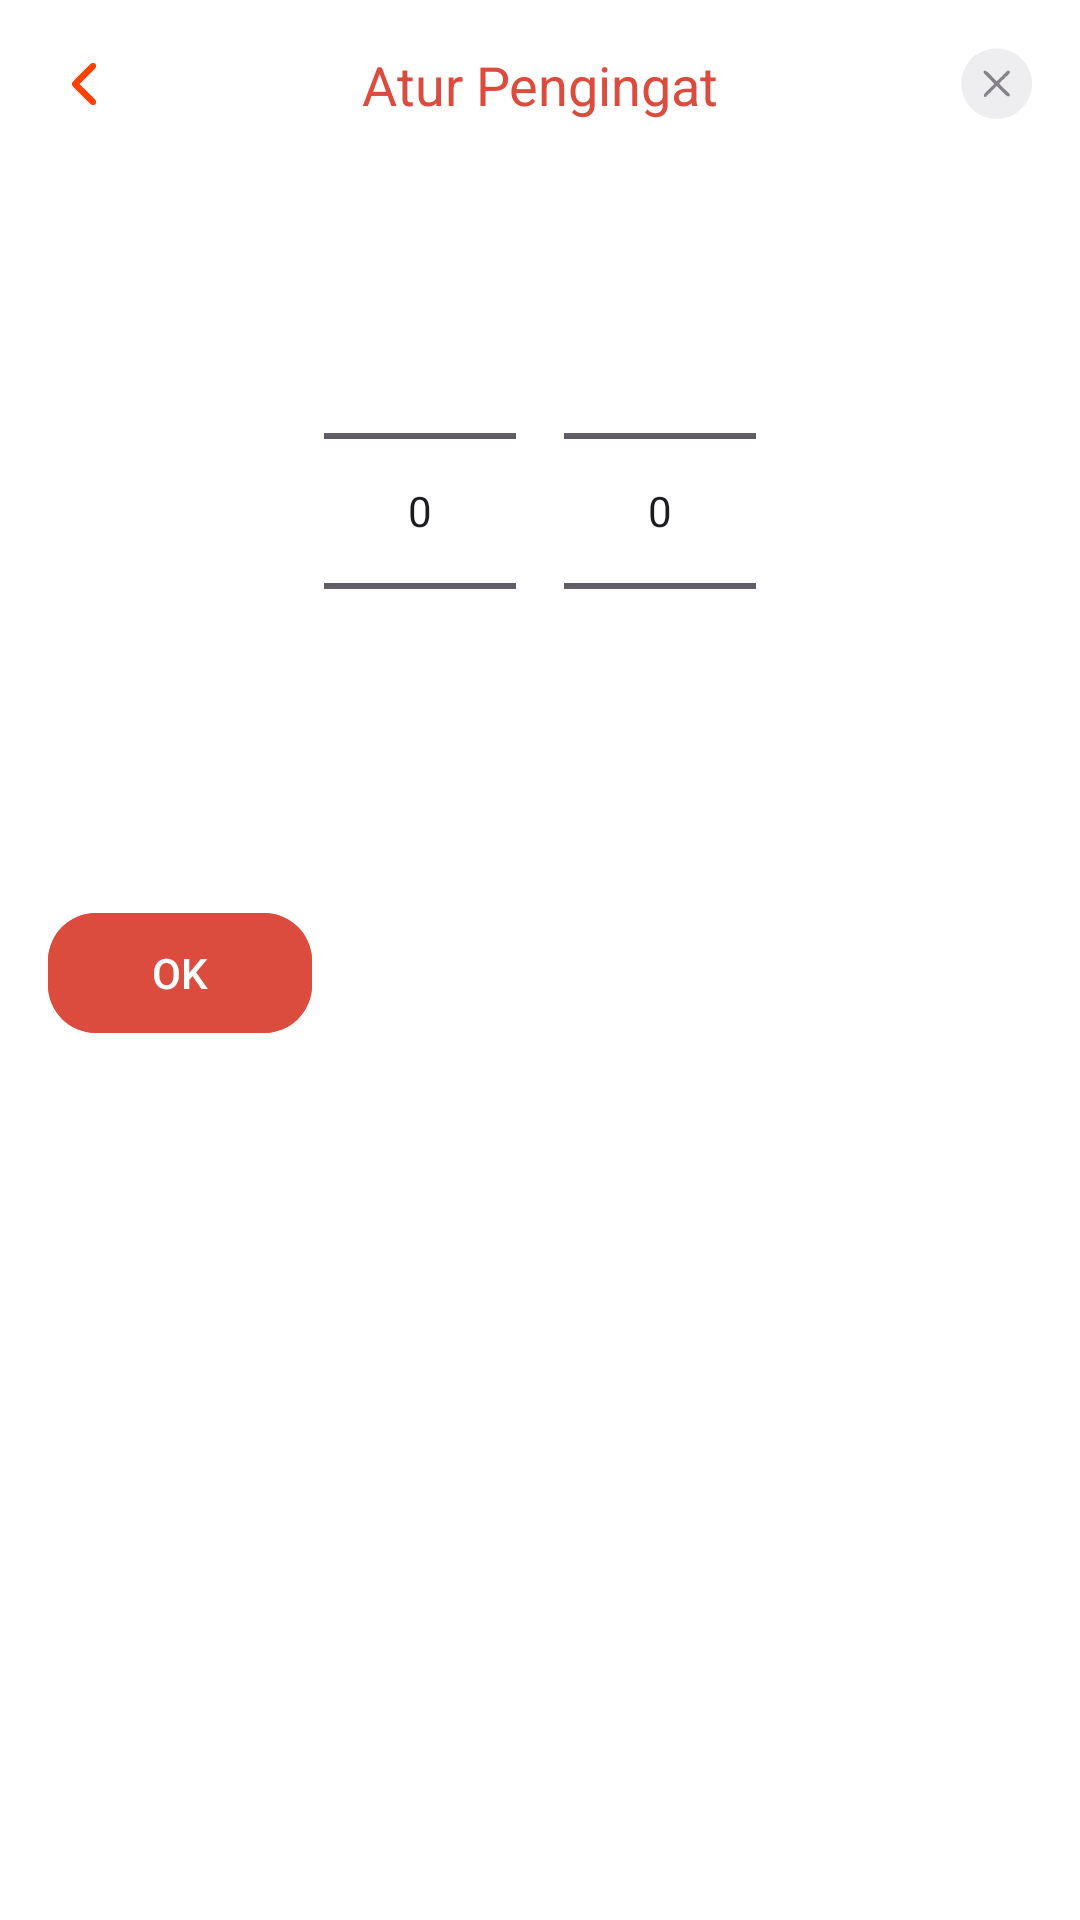

Icons on this 1080×1920 Android screen, each with its box as (x1, y1, x2, y2):
arrow left: (72, 63, 96, 105)
close: (961, 49, 1032, 119)
